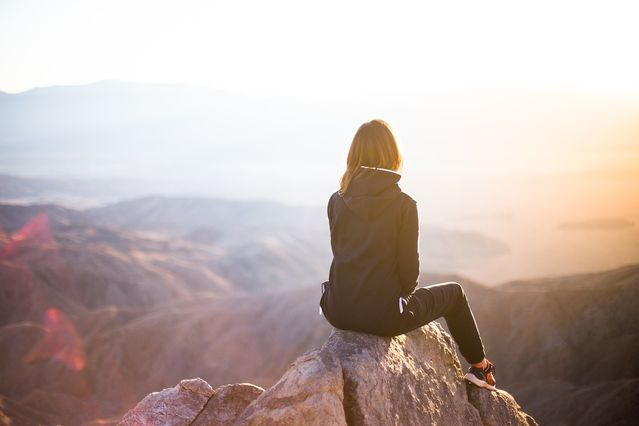Person: (303, 94, 503, 394)
